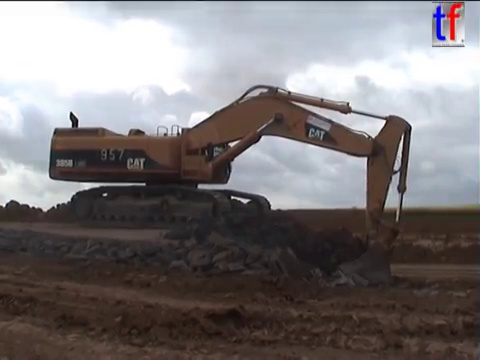excavator: (45, 81, 415, 292)
